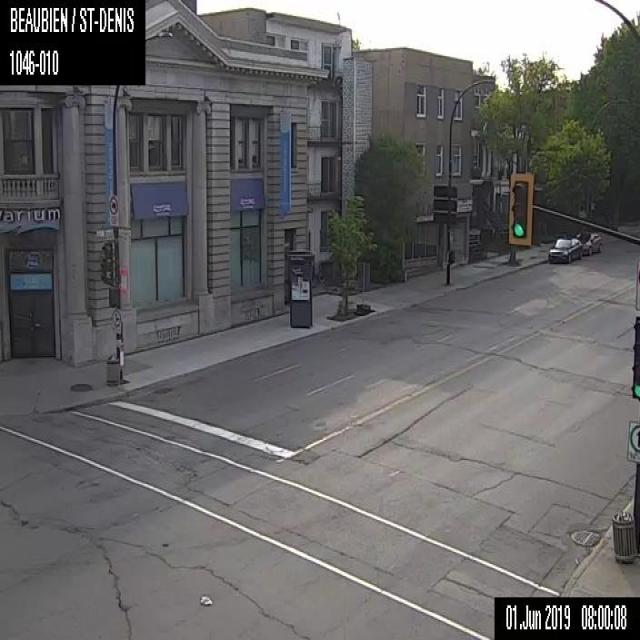vehicle: (548, 236, 582, 262), (573, 230, 602, 255)
